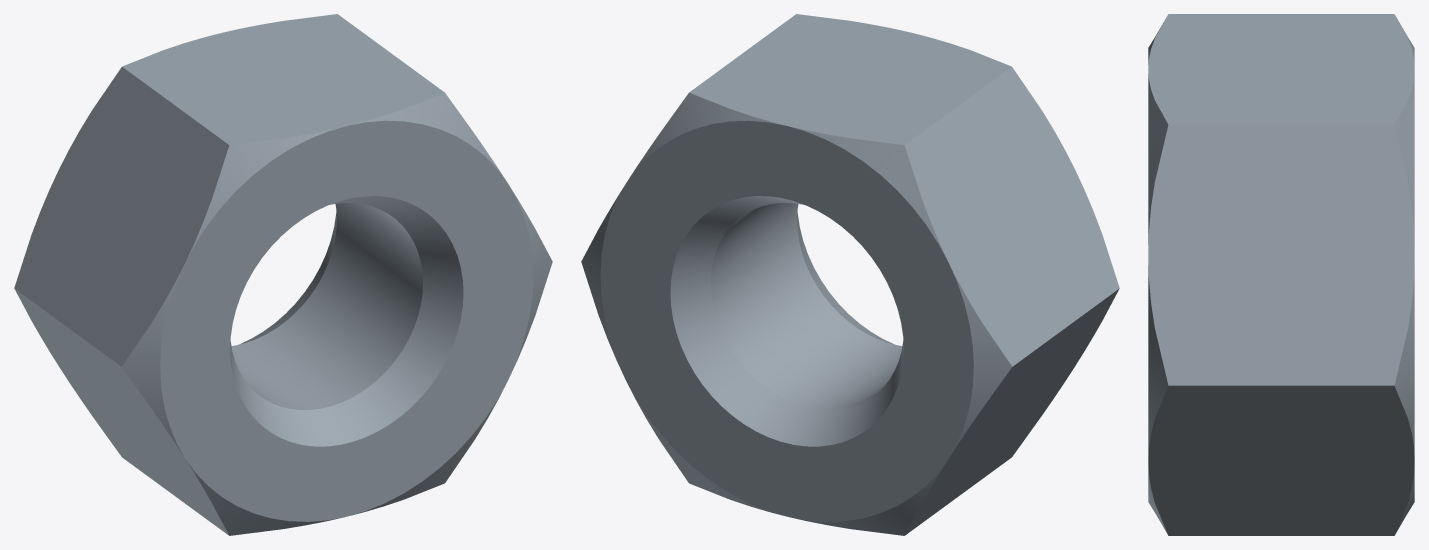
File: Hex_nut_grade_A___B_M5x0_8.obj
3 renders of one model, left to right at view 1: azimuth 30°, elevation 25°; view 2: azimuth 150°, elevation 25°; view 3: azimuth 270°, elevation 25°, orthographic. The views are drawn at different scales.
Visible parts, largest first — view 1: mesh3449, mesh3443, mesh3445, mesh3431, mesh3430, mesh3440, mesh3444, mesh3441, mesh3446, mesh3442, mesh3448, mesh3452 (+1 smaller); view 2: mesh3433, mesh3443, mesh3445, mesh3431, mesh3432, mesh3440, mesh3438, mesh3439, mesh3437, mesh3434, mesh3436, mesh3435 (+1 smaller); view 3: mesh3447, mesh3450, mesh3445, mesh3436, mesh3448, mesh3437, mesh3446.
Part boxes in pixels (bbox=[...]): mesh3449: bbox=[160, 120, 533, 521]; mesh3443: bbox=[14, 67, 229, 366]; mesh3445: bbox=[122, 14, 444, 145]; mesh3431: bbox=[231, 203, 422, 409]; mesh3430: bbox=[230, 196, 463, 446]; mesh3440: bbox=[14, 288, 228, 535]; mesh3444: bbox=[186, 126, 344, 259]; mesh3441: bbox=[122, 266, 183, 455]; mesh3446: bbox=[350, 92, 506, 181]; mesh3442: bbox=[187, 461, 343, 535]; mesh3448: bbox=[510, 187, 552, 373]; mesh3452: bbox=[351, 386, 504, 515]; mesh3433: bbox=[600, 120, 973, 521]; mesh3443: bbox=[904, 67, 1119, 366]; mesh3445: bbox=[689, 14, 1011, 145]; mesh3431: bbox=[711, 203, 902, 409]; mesh3432: bbox=[670, 196, 903, 446]; mesh3440: bbox=[905, 288, 1119, 535]; mesh3438: bbox=[789, 126, 947, 259]; mesh3439: bbox=[950, 266, 1011, 455]; mesh3437: bbox=[627, 92, 783, 181]; mesh3434: bbox=[790, 461, 946, 535]; mesh3436: bbox=[581, 187, 623, 373]; mesh3435: bbox=[629, 386, 782, 515]; mesh3447: bbox=[1148, 124, 1414, 385]; mesh3450: bbox=[1148, 385, 1414, 535]; mesh3445: bbox=[1148, 14, 1414, 124]; mesh3436: bbox=[1394, 266, 1414, 454]; mesh3448: bbox=[1148, 266, 1168, 454]; mesh3437: bbox=[1394, 74, 1414, 244]; mesh3446: bbox=[1148, 74, 1168, 244].
Size of the model in its own units: 0.00924 by 0.008 by 0.0047.
